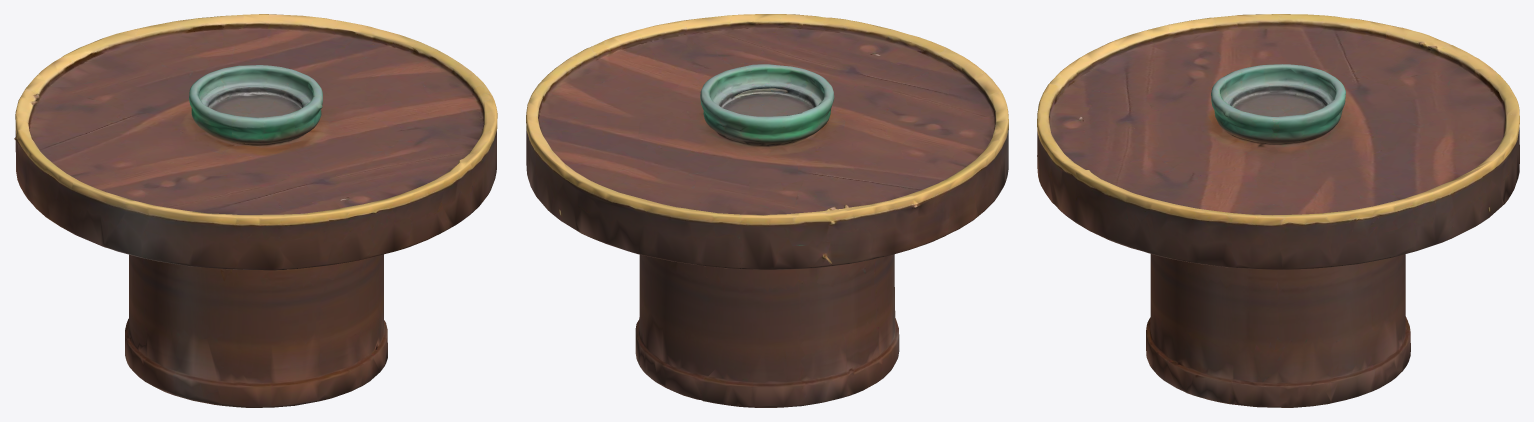
The model's file is cigar-side-table-walnut.glb.
3 renders of one model, left to right at view 1: azimuth 30°, elevation 25°; view 2: azimuth 150°, elevation 25°; view 3: azimuth 270°, elevation 25°, orthographic.
Bounding box in the file's own units: 2 × 1.2 × 2.
Materials: 1 (1 with a texture image).
